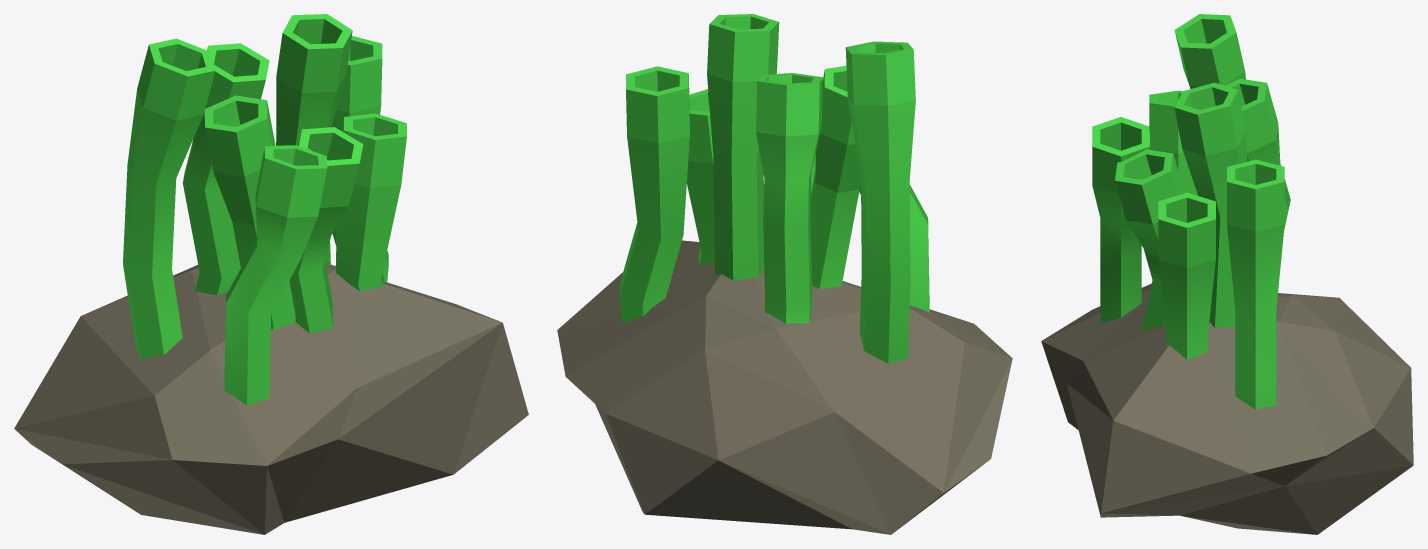
The model's file is CoralGreenTubes.FBX.
3 renders of one model, left to right at view 1: azimuth 30°, elevation 25°; view 2: azimuth 150°, elevation 25°; view 3: azimuth 270°, elevation 25°, orthographic. The views are drawn at different scales.
Parts seen in each view (by area): view 1: CoralGreenTubes; view 2: CoralGreenTubes; view 3: CoralGreenTubes.
Boxes of the visible parts, box(x1,y1,x2,y2) form: CoralGreenTubes: box(14, 14, 528, 534); CoralGreenTubes: box(557, 14, 1012, 534); CoralGreenTubes: box(1041, 14, 1413, 534).
Bounding box in the file's own units: 45.99 × 50.58 × 39.09.
